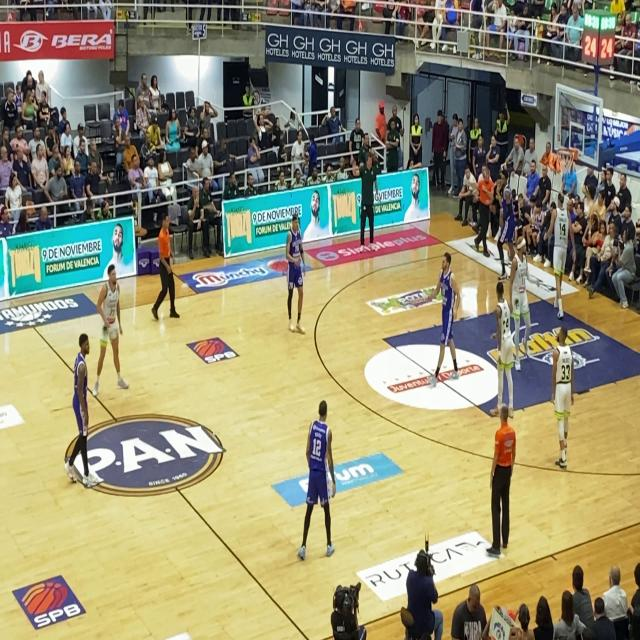referee: (482, 400, 526, 562)
team1: (545, 320, 579, 477), (90, 255, 126, 394), (493, 274, 522, 400), (508, 236, 536, 353)
team2: (293, 390, 336, 560), (434, 236, 464, 429)
ubasket: (554, 144, 576, 180)
